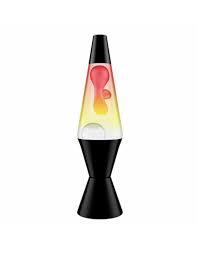Lamp: (70, 33, 127, 221)
